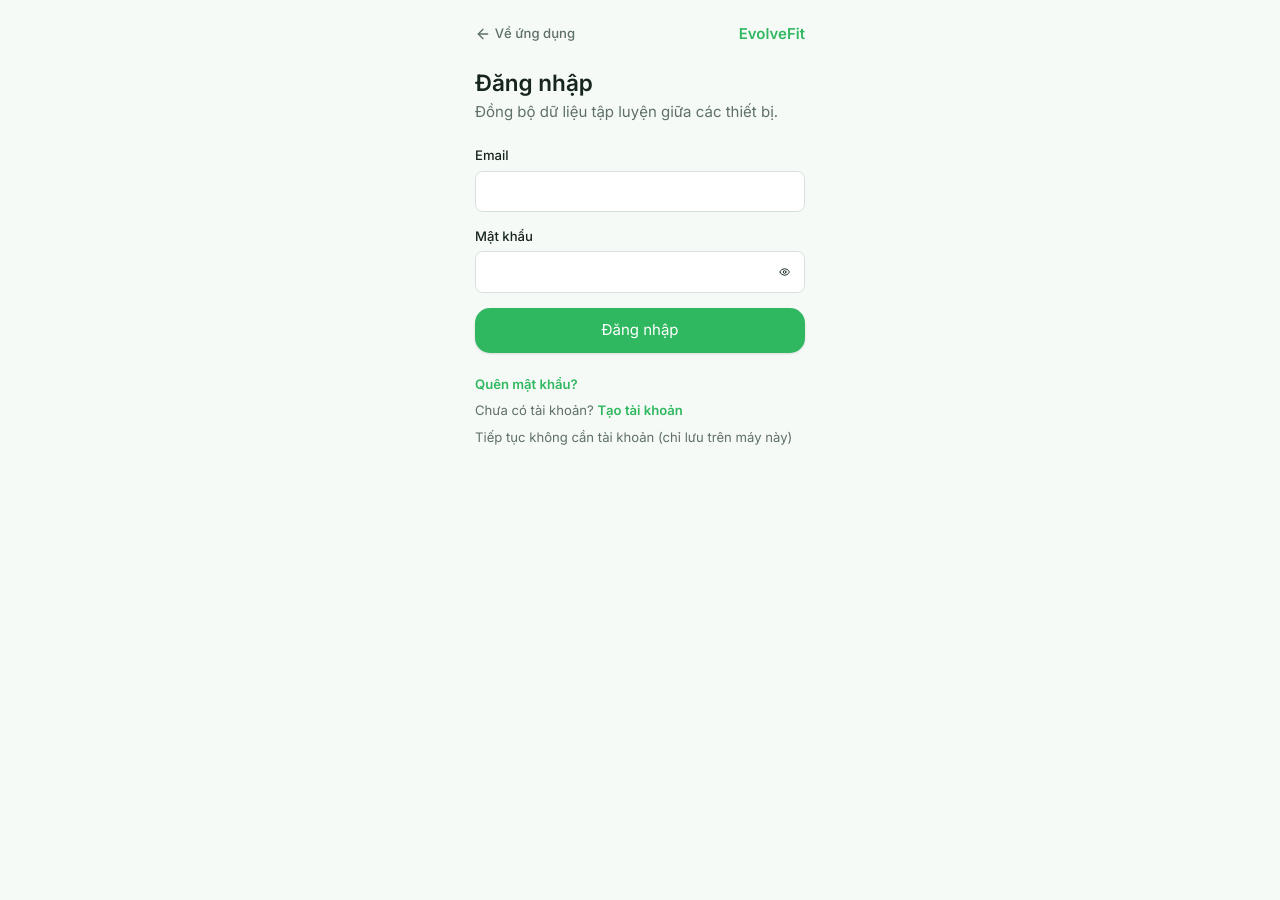
Test case: Account namespaces and two-way sync (P2) › replaces the device copy with the cloud data and skips onboarding for an existing account
The image size is (1280, 900).
Type "phuc@example.com" into the field labelled "Email" at (640, 191), box [475,171,805,212]
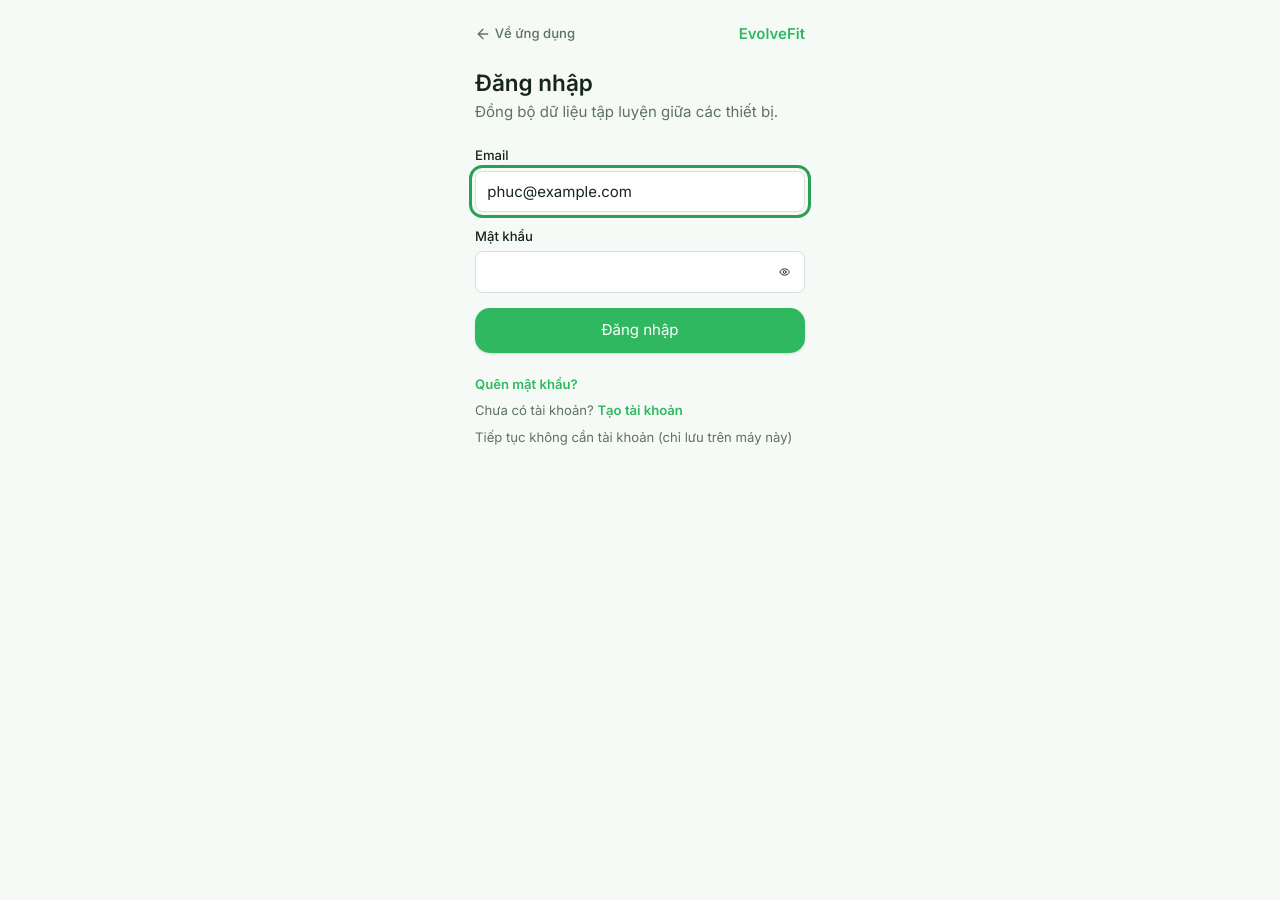
Type "secret123" into the password field labelled "Mật khẩu" at (640, 272), box [475,251,805,293]
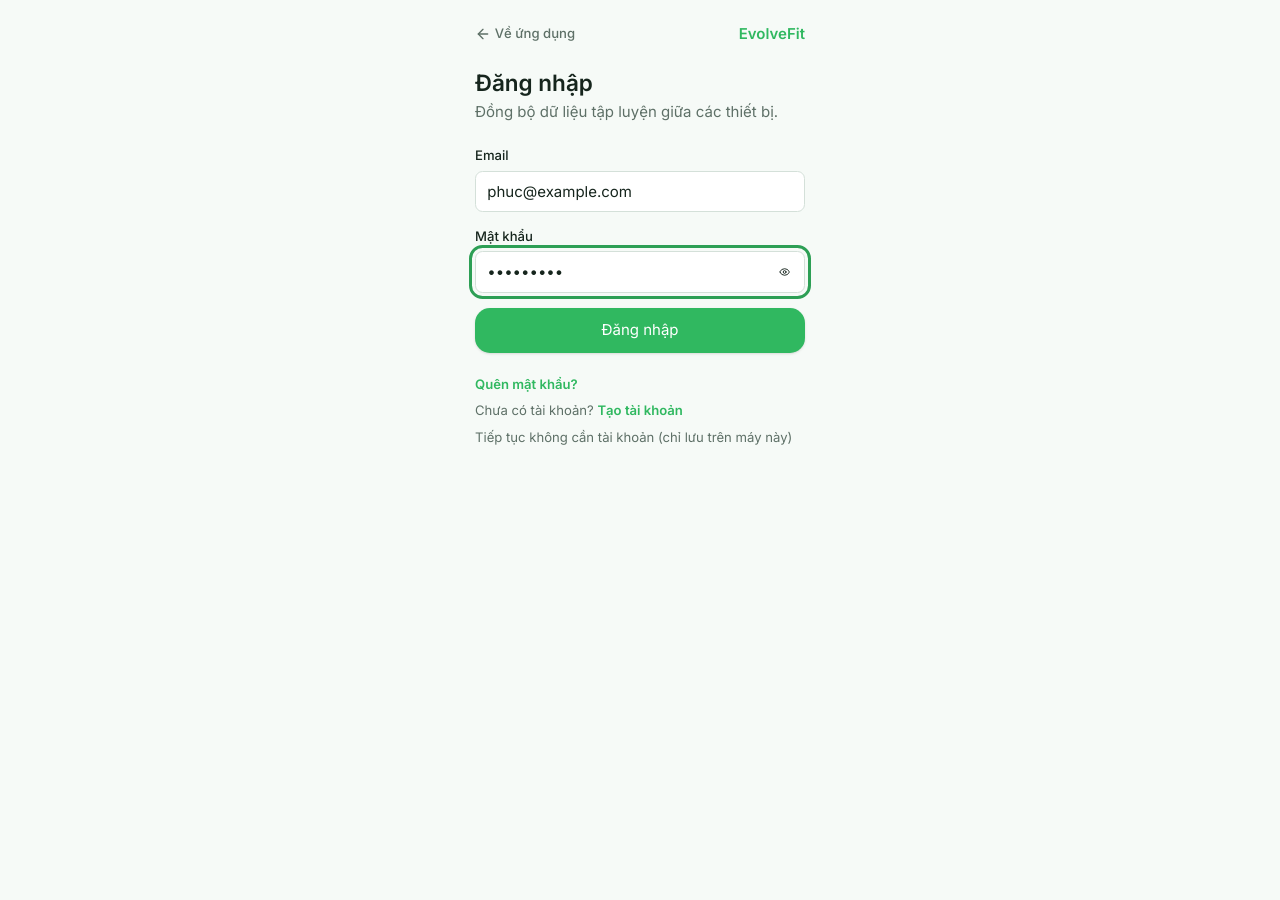
Click the button "Đăng nhập" at (640, 330), box [475,308,805,352]
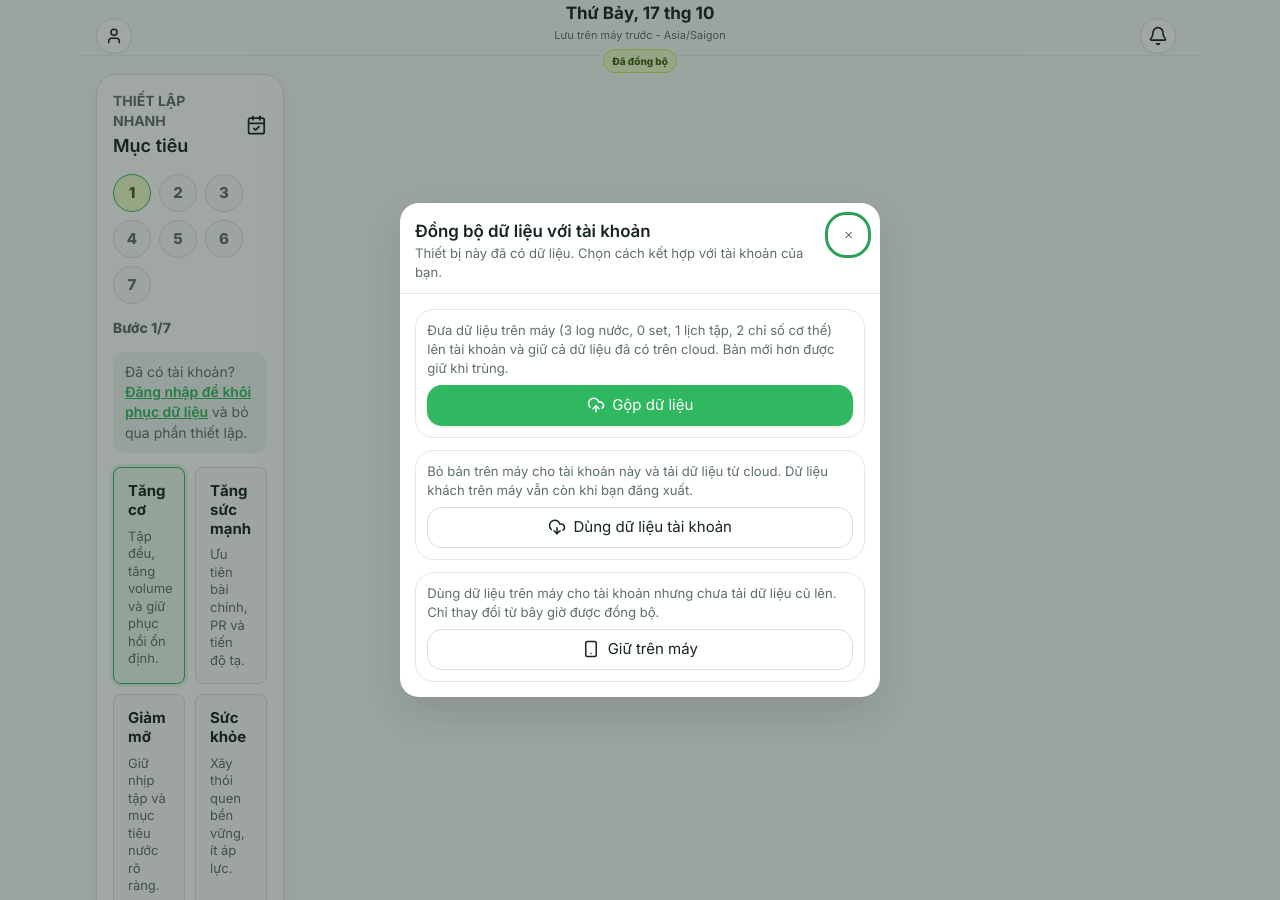
Click the button with aria-label "replace-local-with-cloud" at (640, 527), box [427,507,853,548]
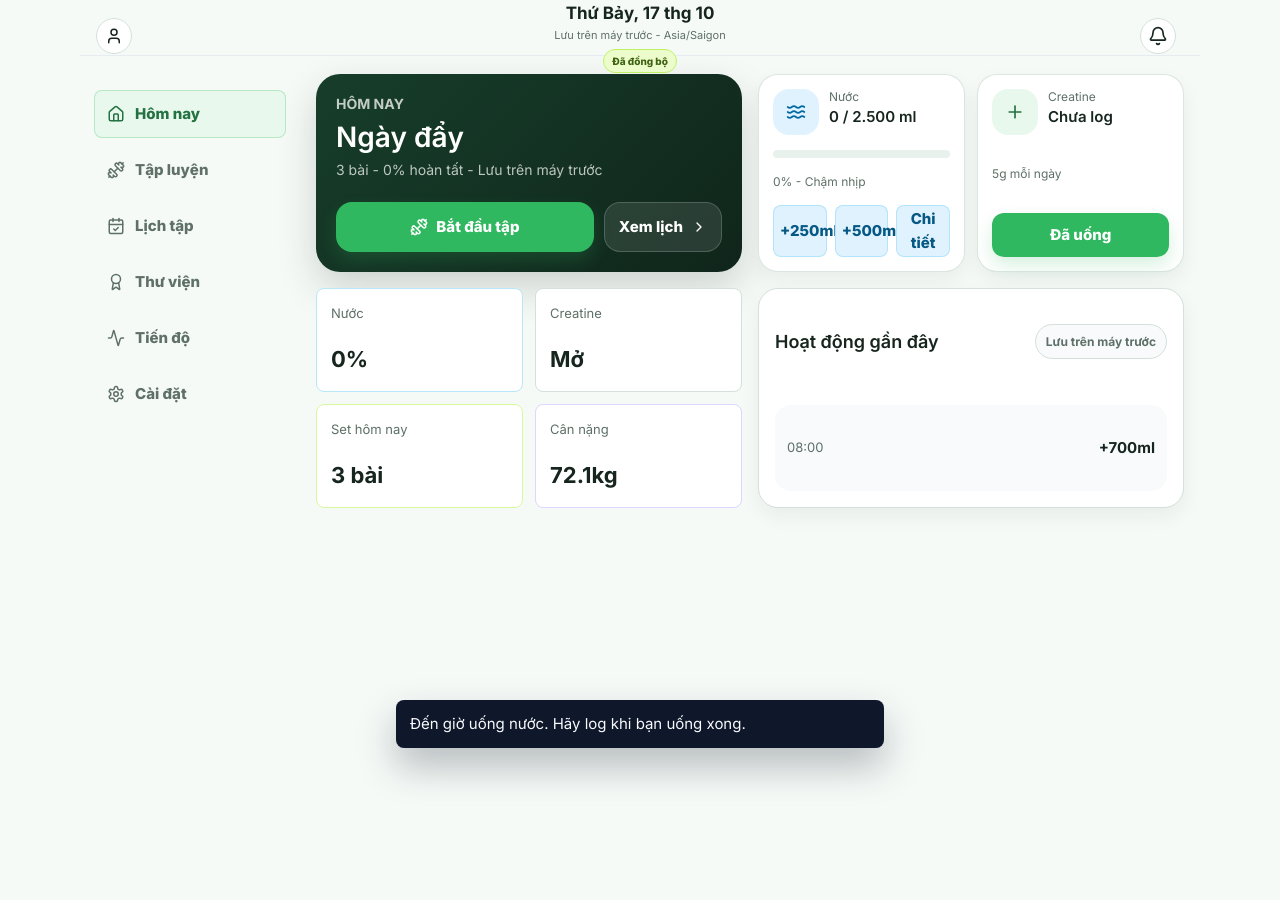
Result: the text "Bước 1/" is gone
